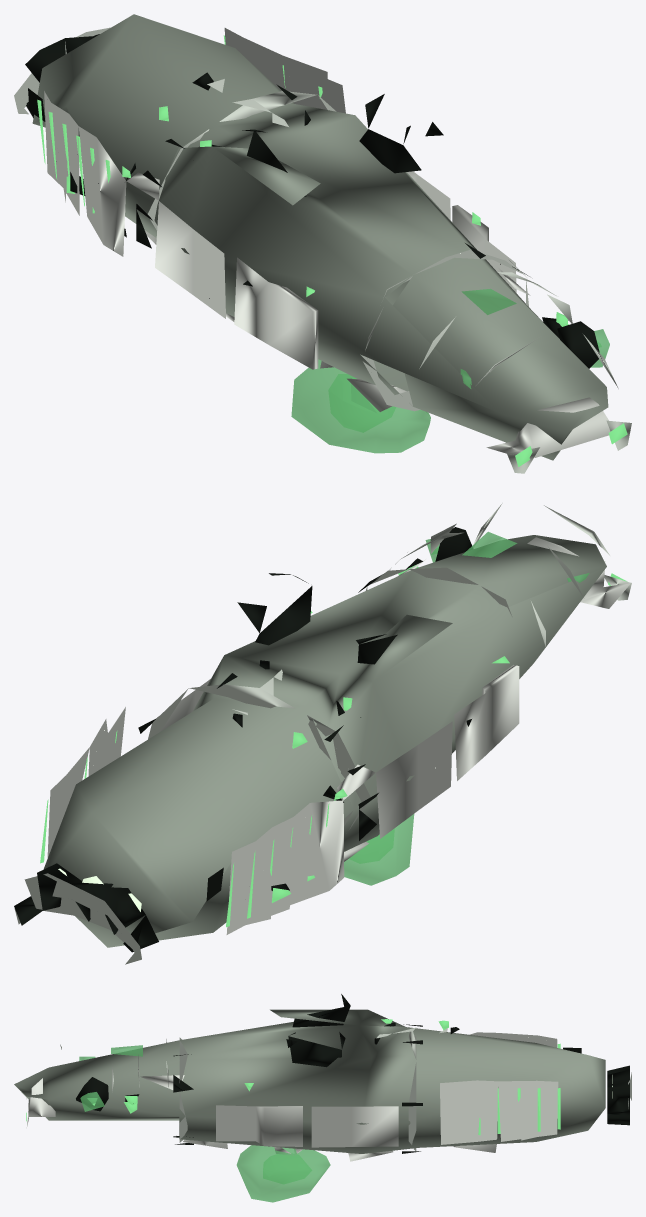
Rendered from zrost-szczepieni-trade-16-lod2.glb.
3 renders of one model, top to bottom at view 1: azimuth 30°, elevation 25°; view 2: azimuth 150°, elevation 25°; view 3: azimuth 270°, elevation 25°, orthographic. The views are drawn at different scales.
Size of the model in its own units: 18.31 by 21.77 by 68.07.
